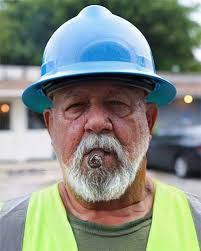hard hat: (23, 6, 177, 114)
high-vis: (24, 180, 198, 231)
